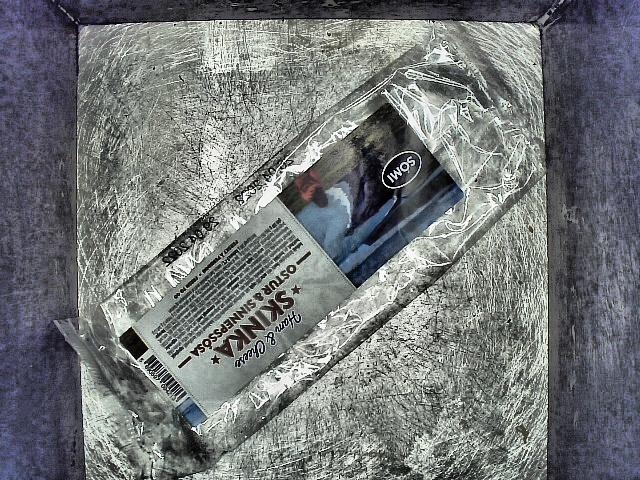Plastic: (87, 35, 532, 463)
